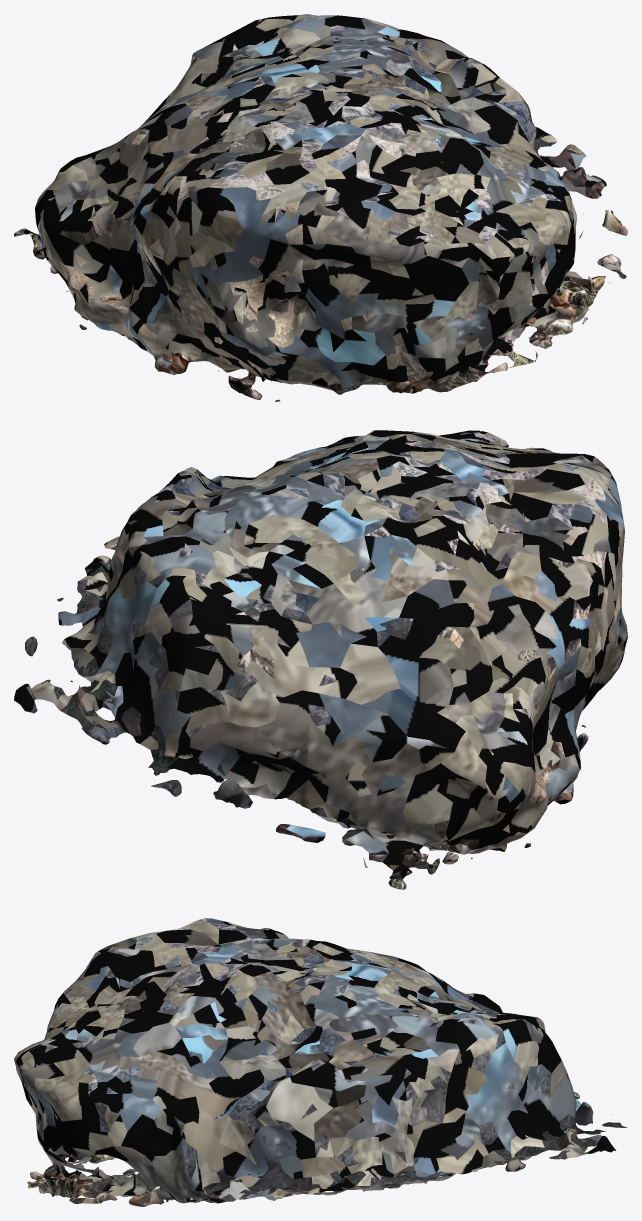
File: mesh_lowpoly.obj
3 renders of one model, top to bottom at view 1: azimuth 30°, elevation 25°; view 2: azimuth 150°, elevation 25°; view 3: azimuth 270°, elevation 25°, orthographic. The views are drawn at different scales.
Size of the model in its own units: 2.21 by 1.14 by 2.65.
